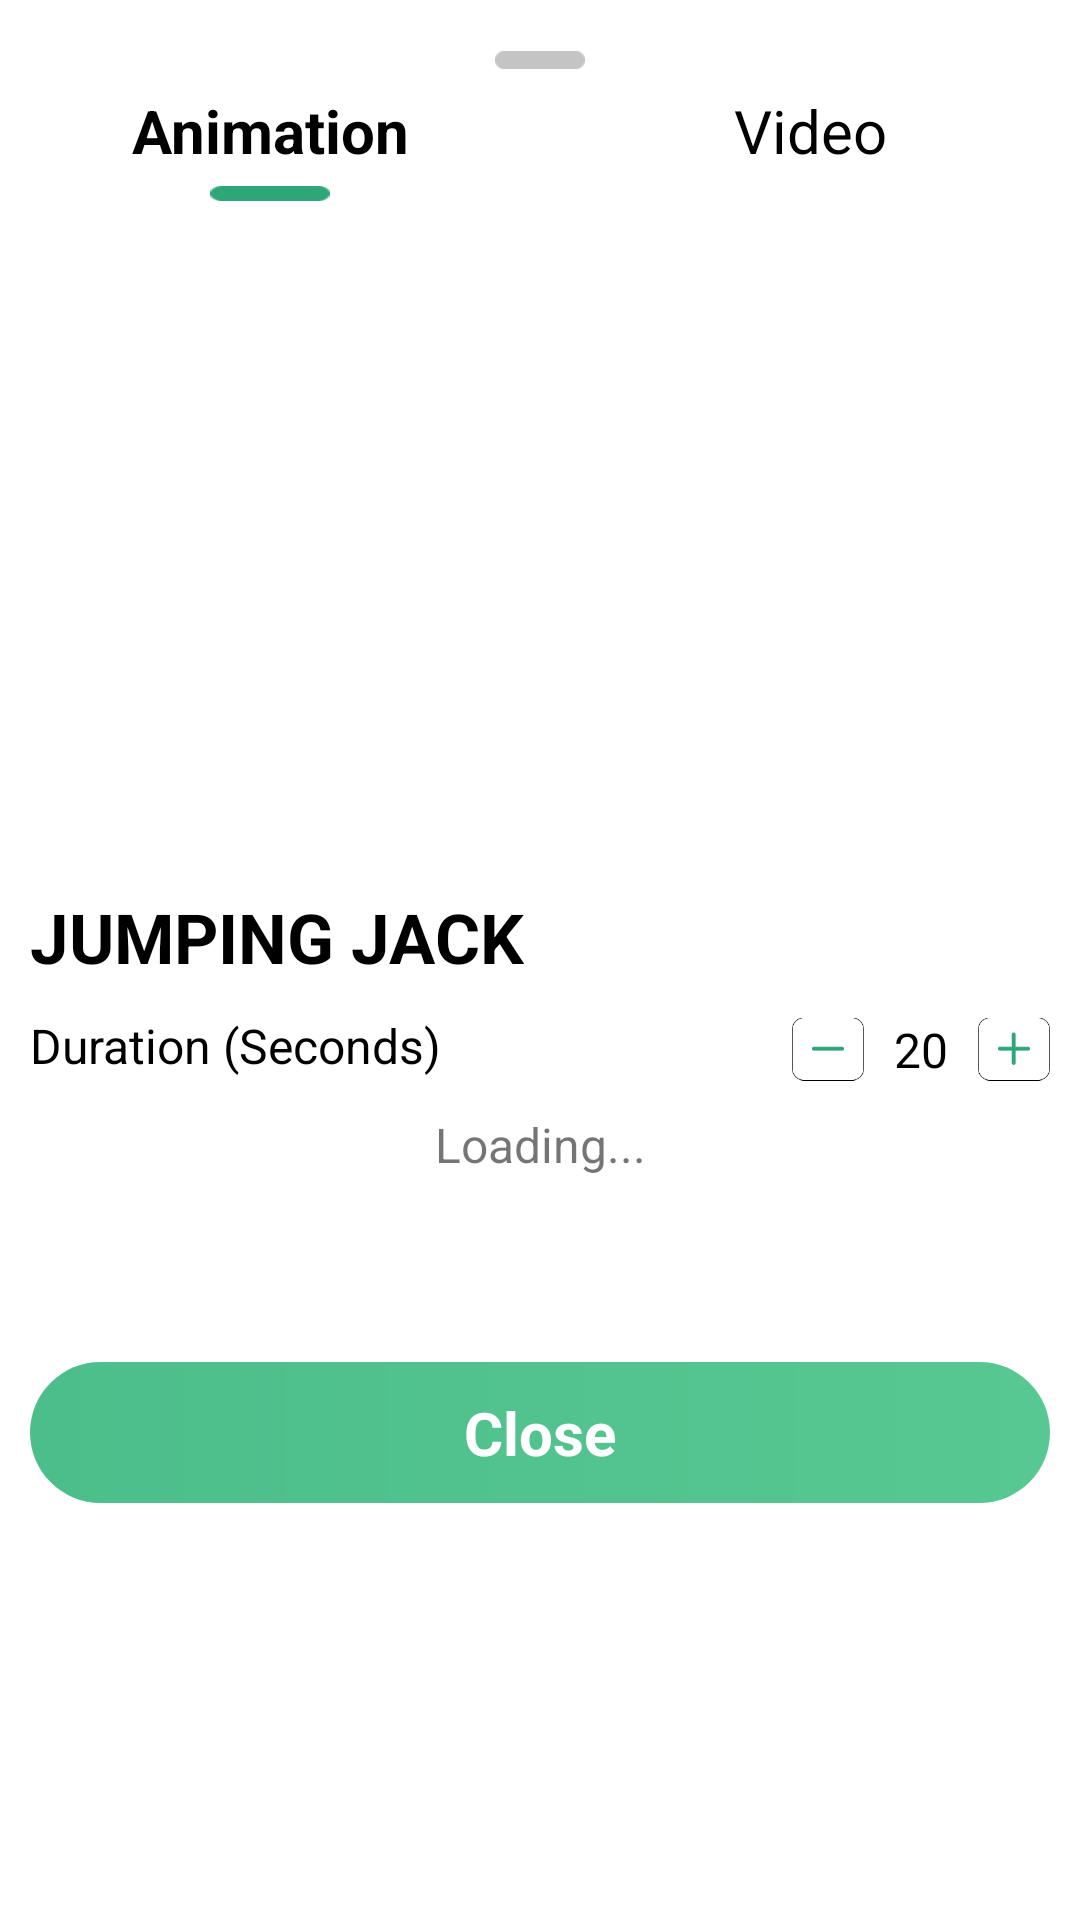

Point at icon controls on the screen. Image size 1080w x 1920h, points as point (x, y).
minus exercise animation: point (828, 1049)
plus exercise animation: point (1014, 1049)
